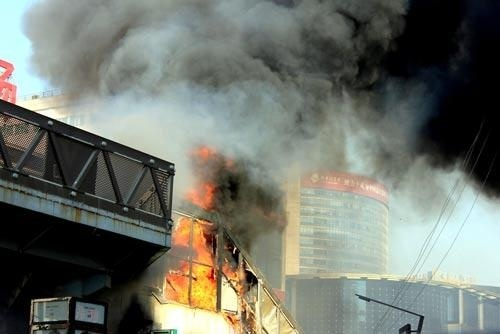fire: (169, 146, 224, 315)
